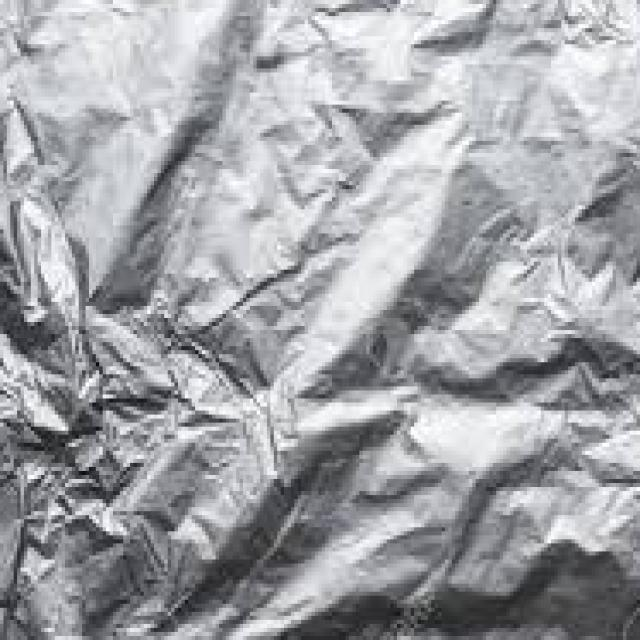organic: (17, 9, 623, 617)
